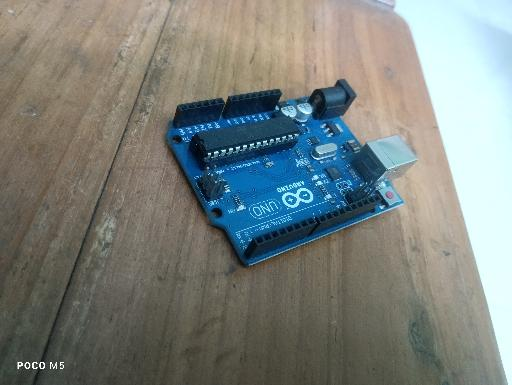Arduino: (166, 77, 419, 269)
